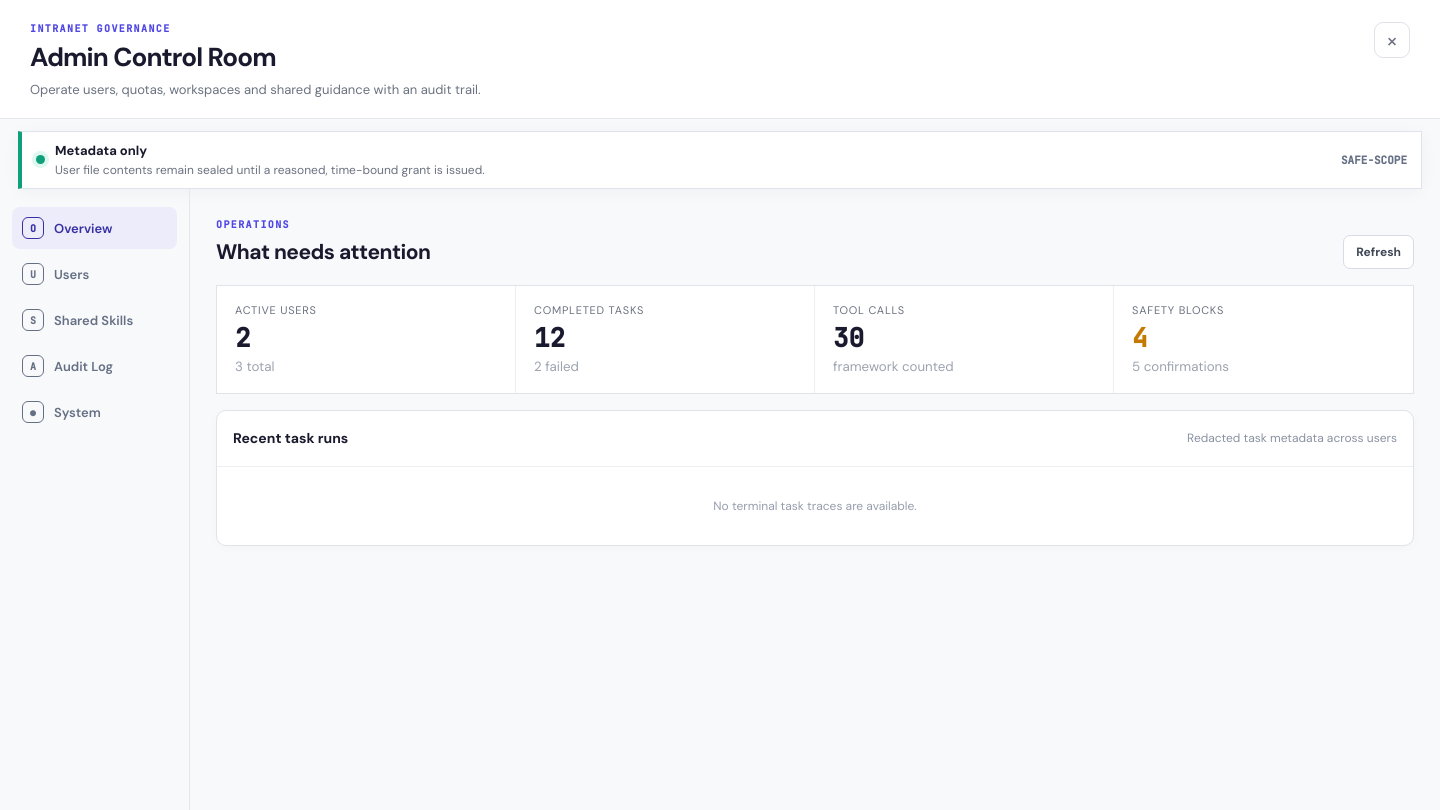
AdminConsole › requires a reasoned temporary grant before rendering workspace content
The width and height of the screenshot is (1440, 810).
Click the button "U Users" at (94, 274), box [12, 253, 177, 295]
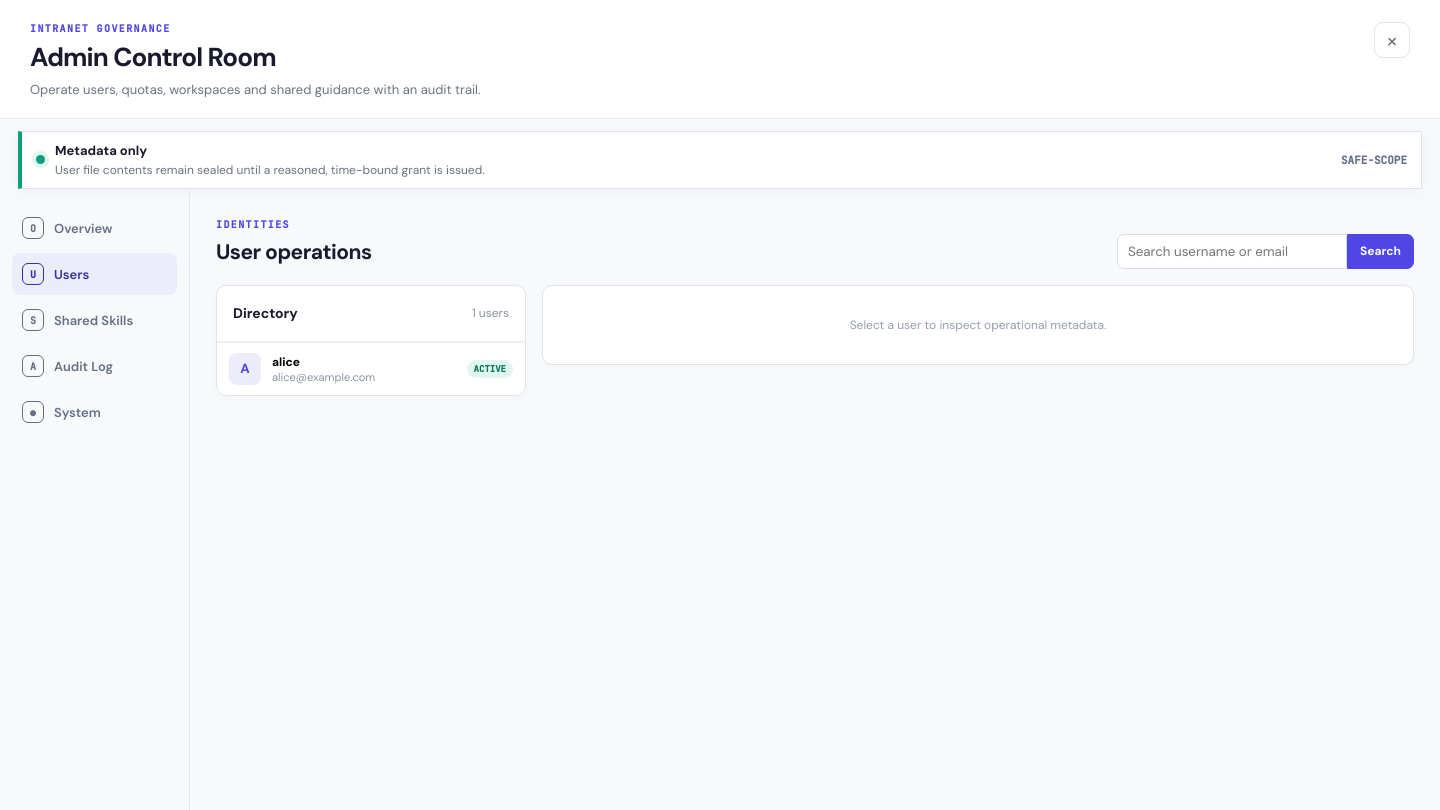
Click the button with class "user-row" at (371, 368), box [217, 342, 525, 394]
(page scrolled)
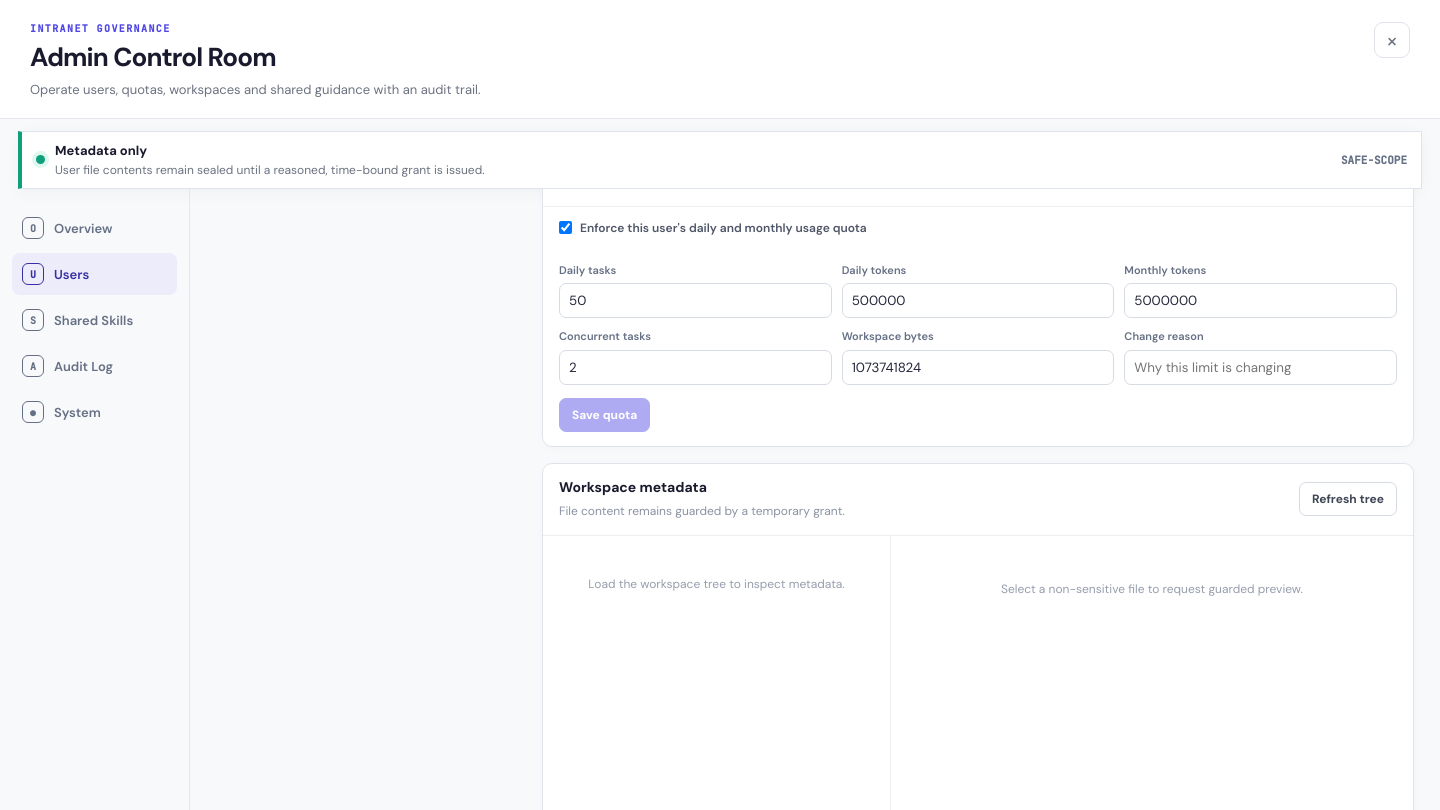
Click the button "Refresh tree" at (1348, 499), box [1299, 482, 1397, 516]
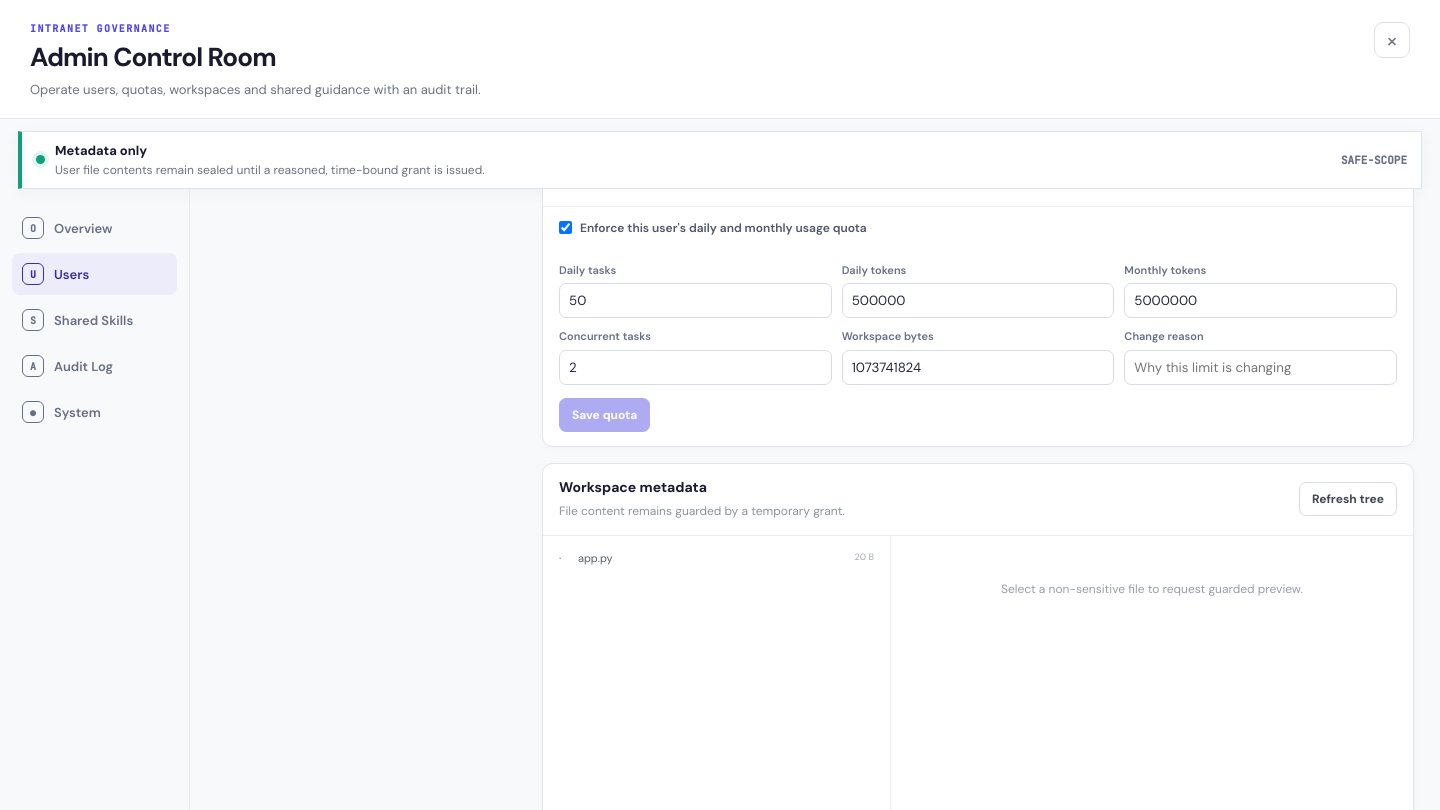
Click the button "· app.py 20 B" at (595, 558), box [552, 544, 881, 570]
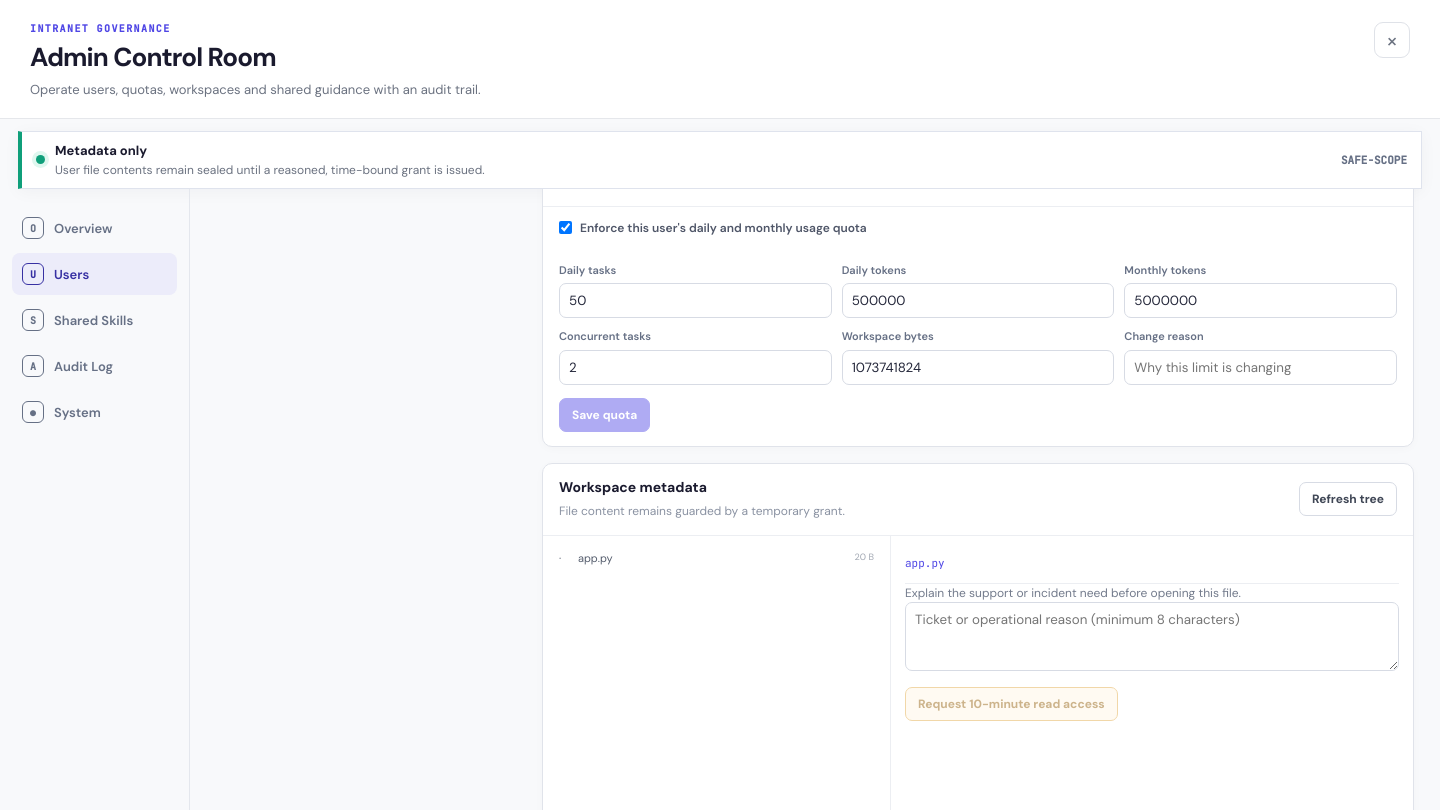
Result: the text "Request 10-minute read access" is shown at [905, 686, 1118, 720]
Type "Support ticket INC-42" into the text box with placeholder "Ticket or operational reason (minimum 8 characters)" at (1152, 636), box [905, 602, 1399, 670]
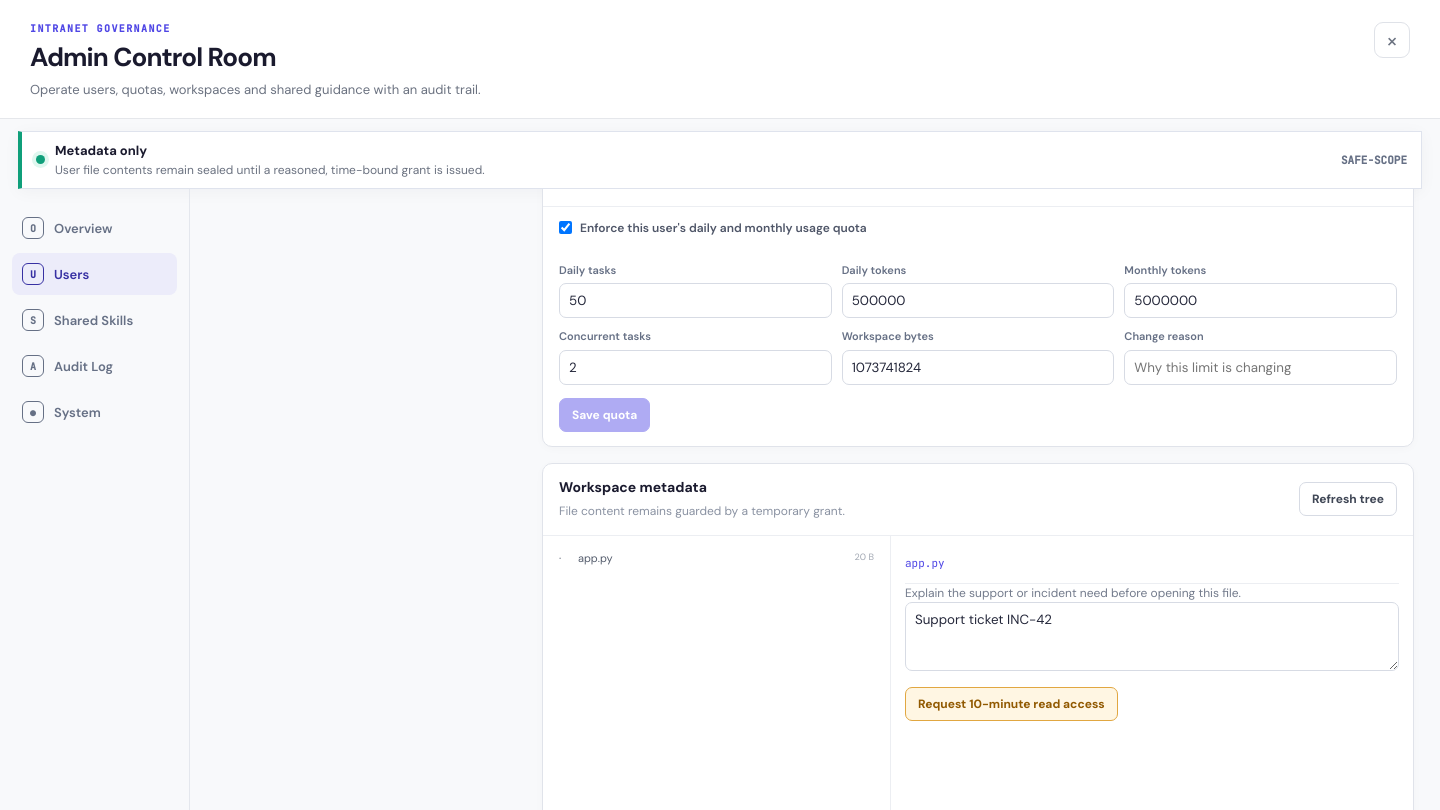
Click the button with class "warning-button" at (1011, 704), box [905, 686, 1118, 720]
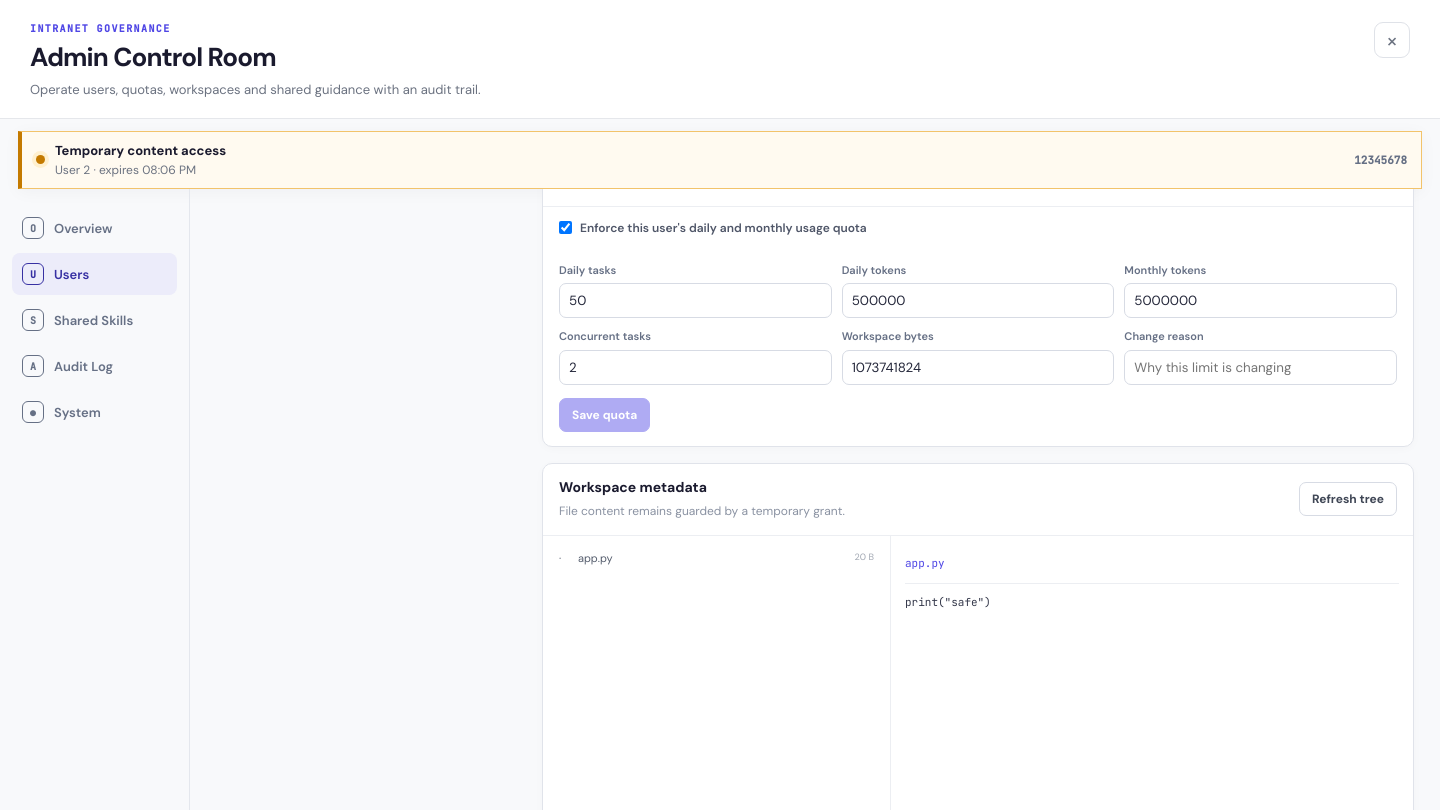
Result: the text "Temporary content access" is shown at [55, 140, 226, 160]
Result: the text "print(\"safe\")" is shown at [905, 594, 991, 608]
